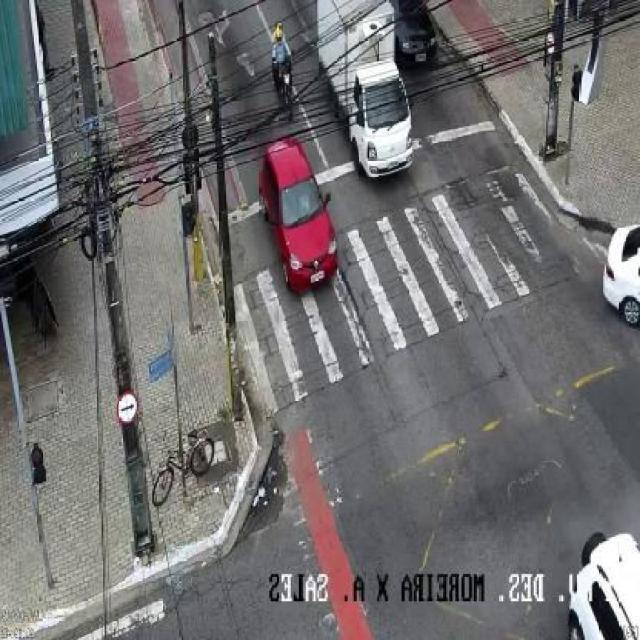Car: (257, 134, 340, 294), (564, 529, 640, 639), (602, 223, 640, 328), (390, 0, 439, 64)
Cycle: (150, 429, 216, 508), (270, 54, 300, 108)
Truck: (314, 0, 414, 179)
